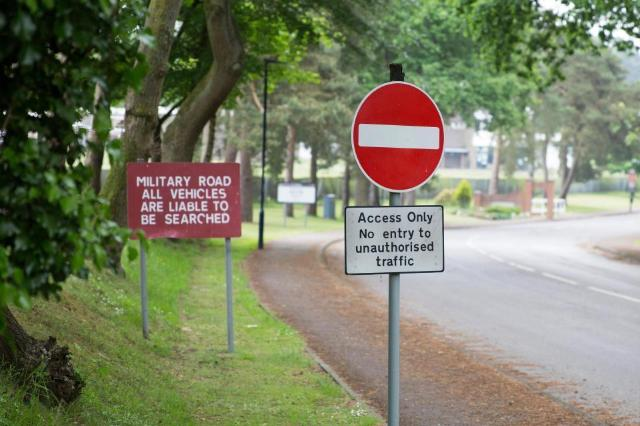B2: (349, 79, 445, 193), (125, 160, 242, 240)
